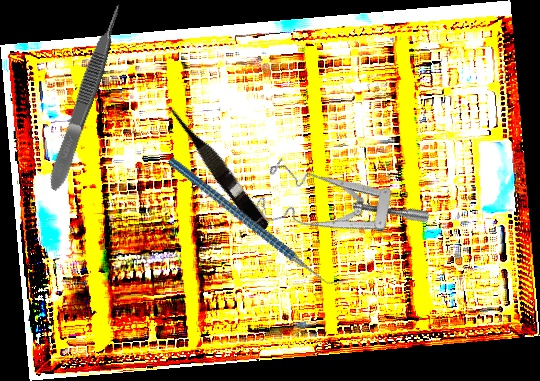Chopper: (167, 116, 346, 328)
Micro Scissor: (161, 95, 274, 236)
Speculum: (245, 127, 434, 294)
Tissue Forceps: (43, 1, 130, 193)
